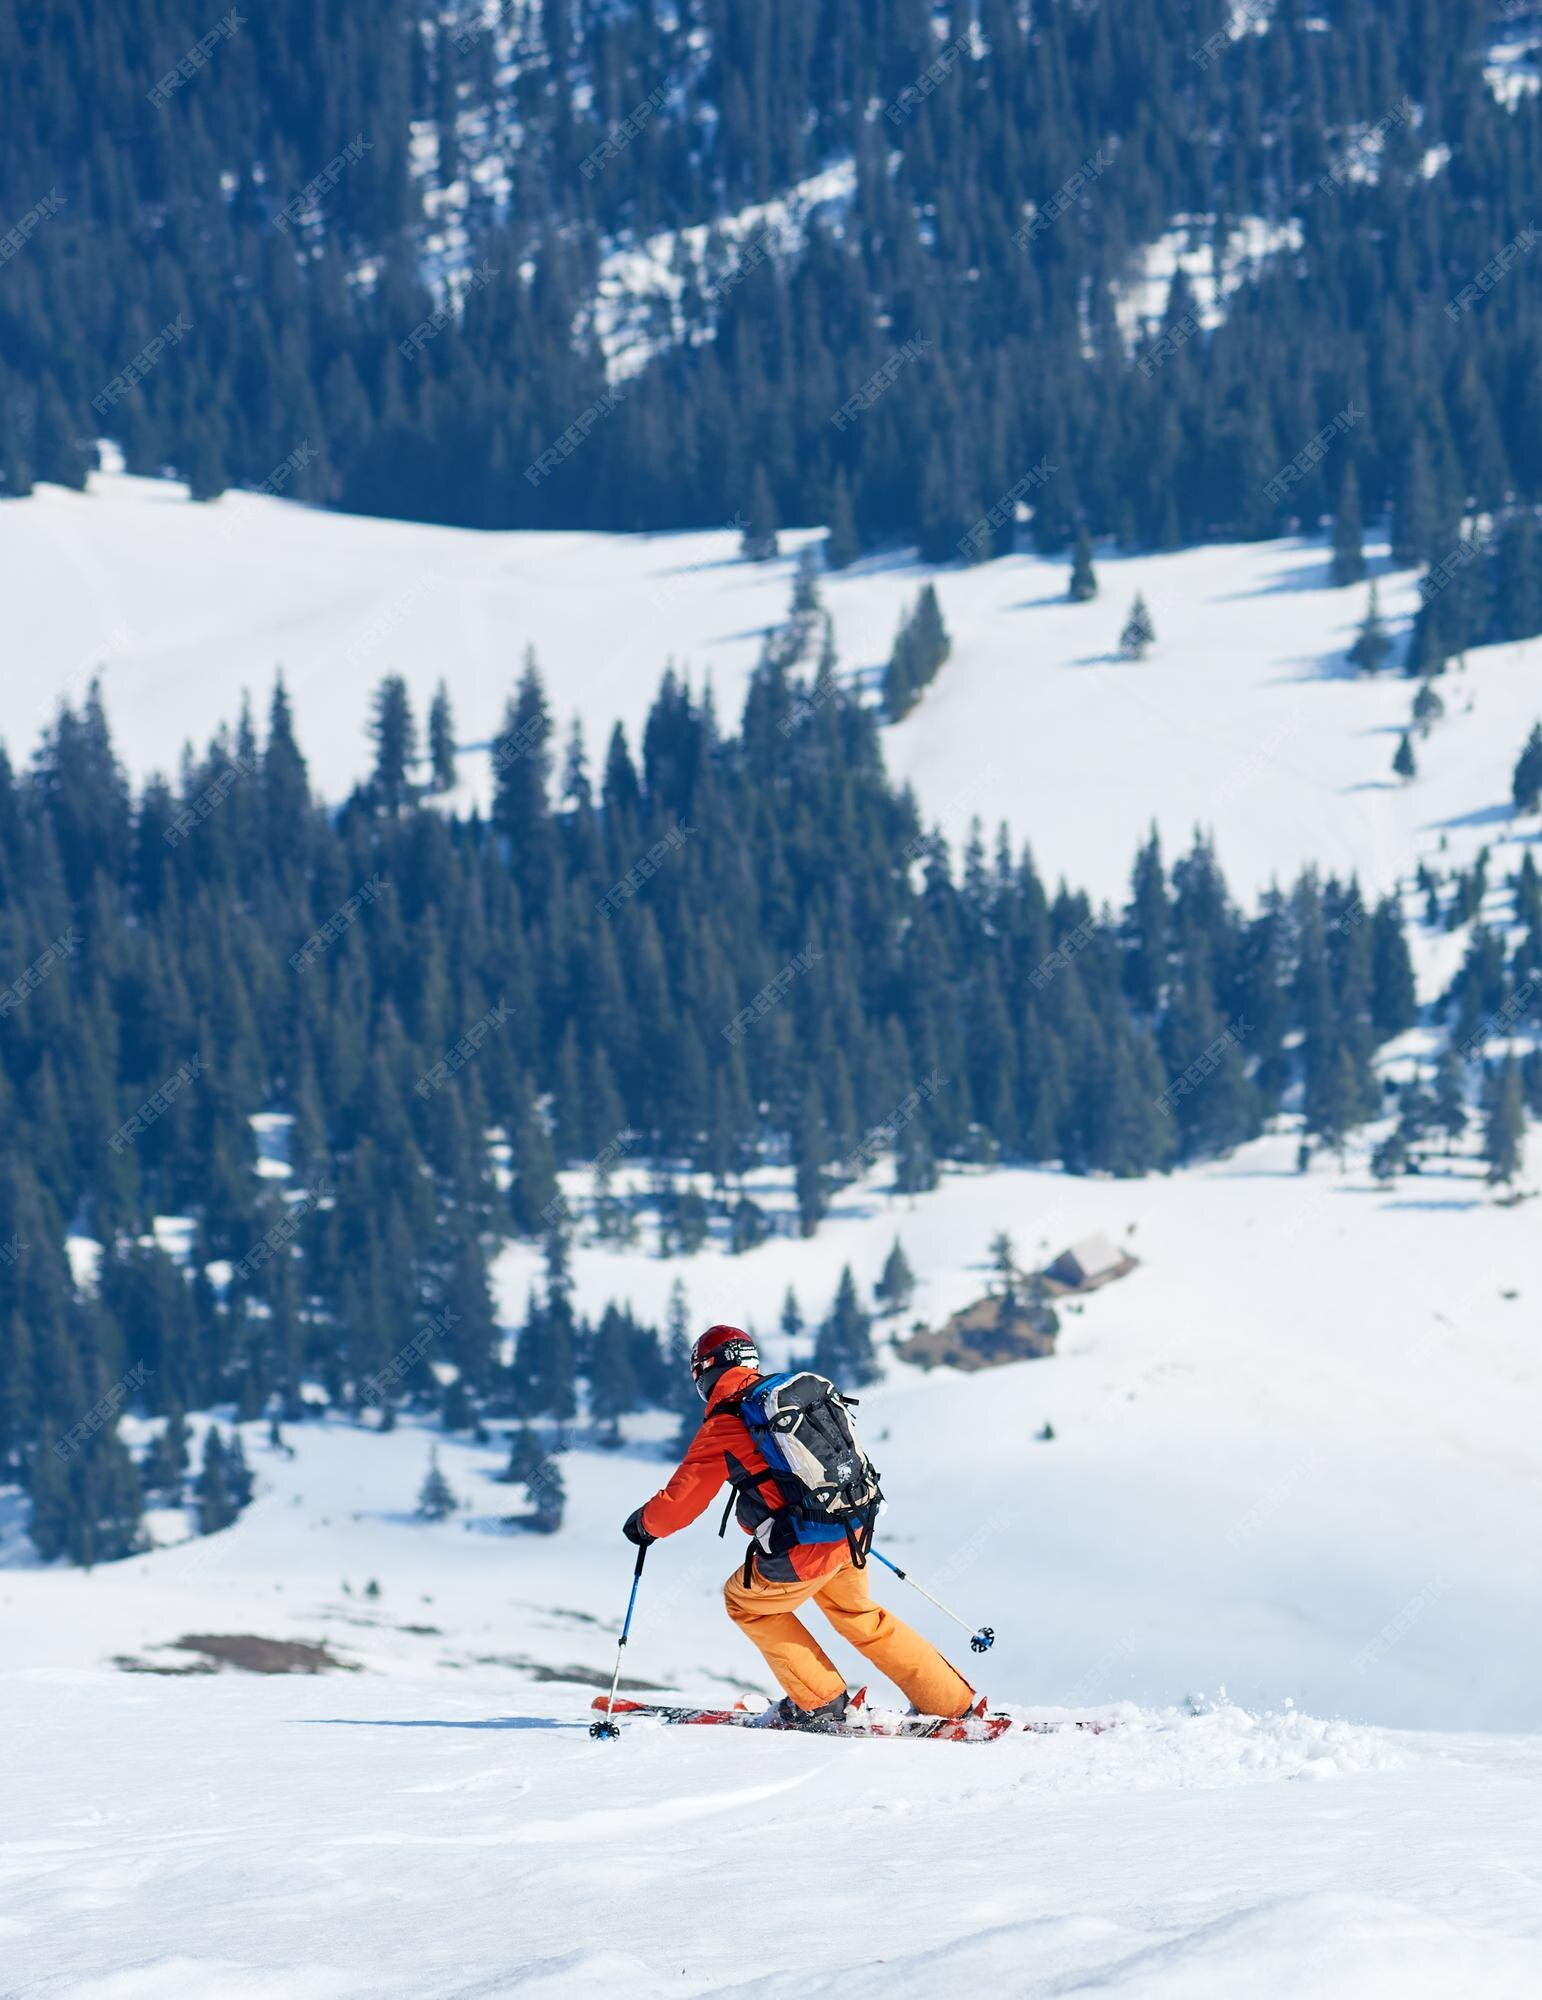skier: (535, 1300, 1186, 1778)
